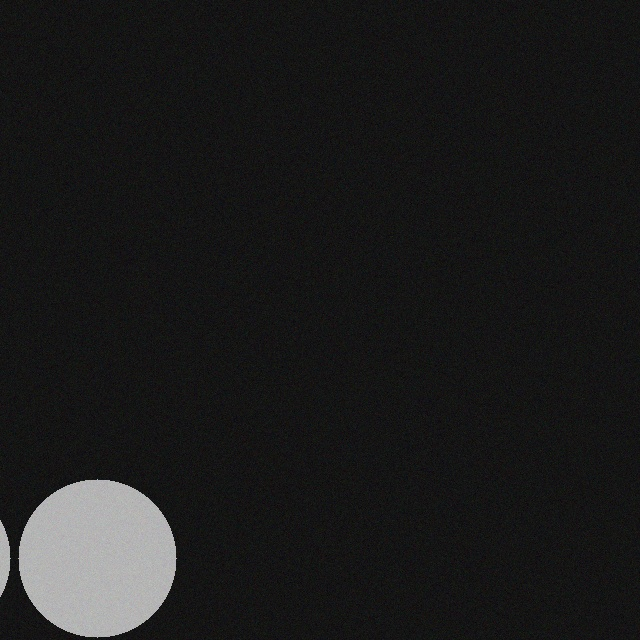circle: (4, 465, 162, 623)
